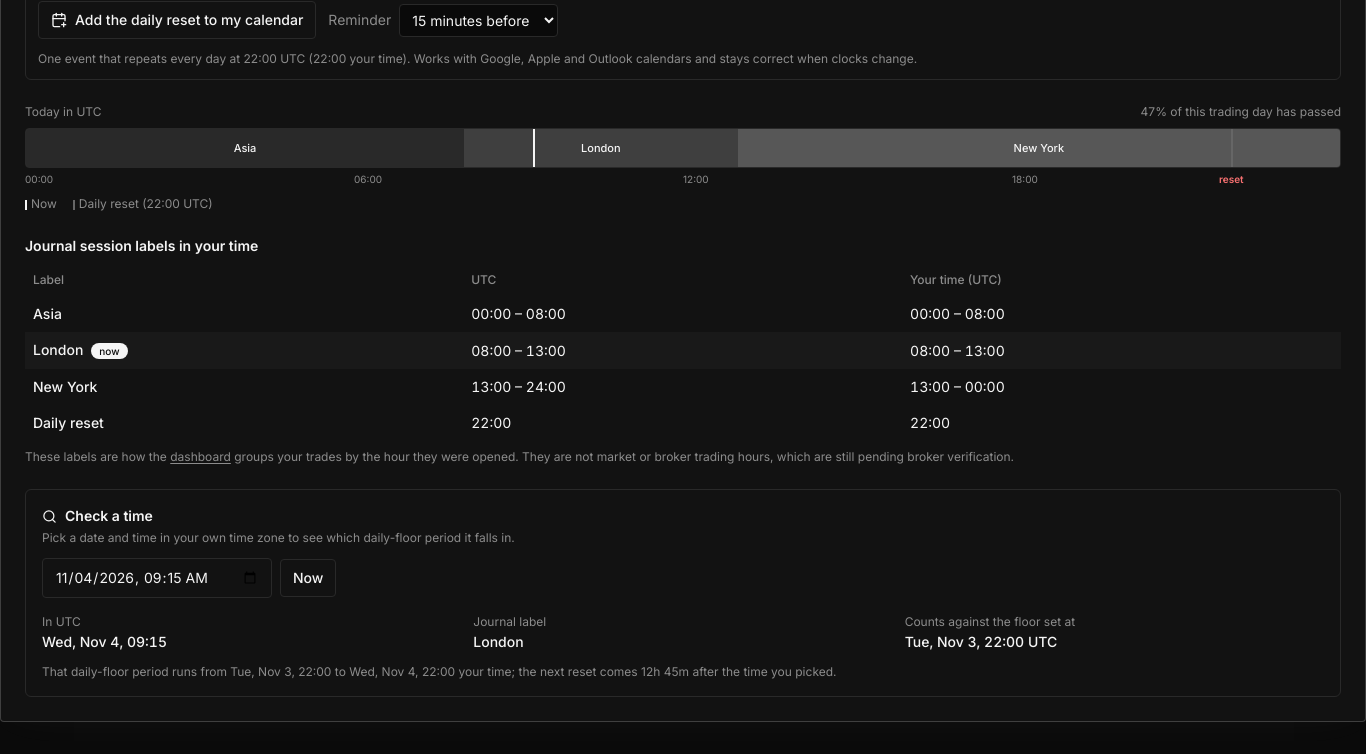
trading-day clock card › checks a chosen time against the daily-floor period
(page scrolled)
Replace the text in the field labelled "Check a time" with "2026-11-04T23:30" at x=157, y=578, box x1=42 y1=558 x2=272 y2=598
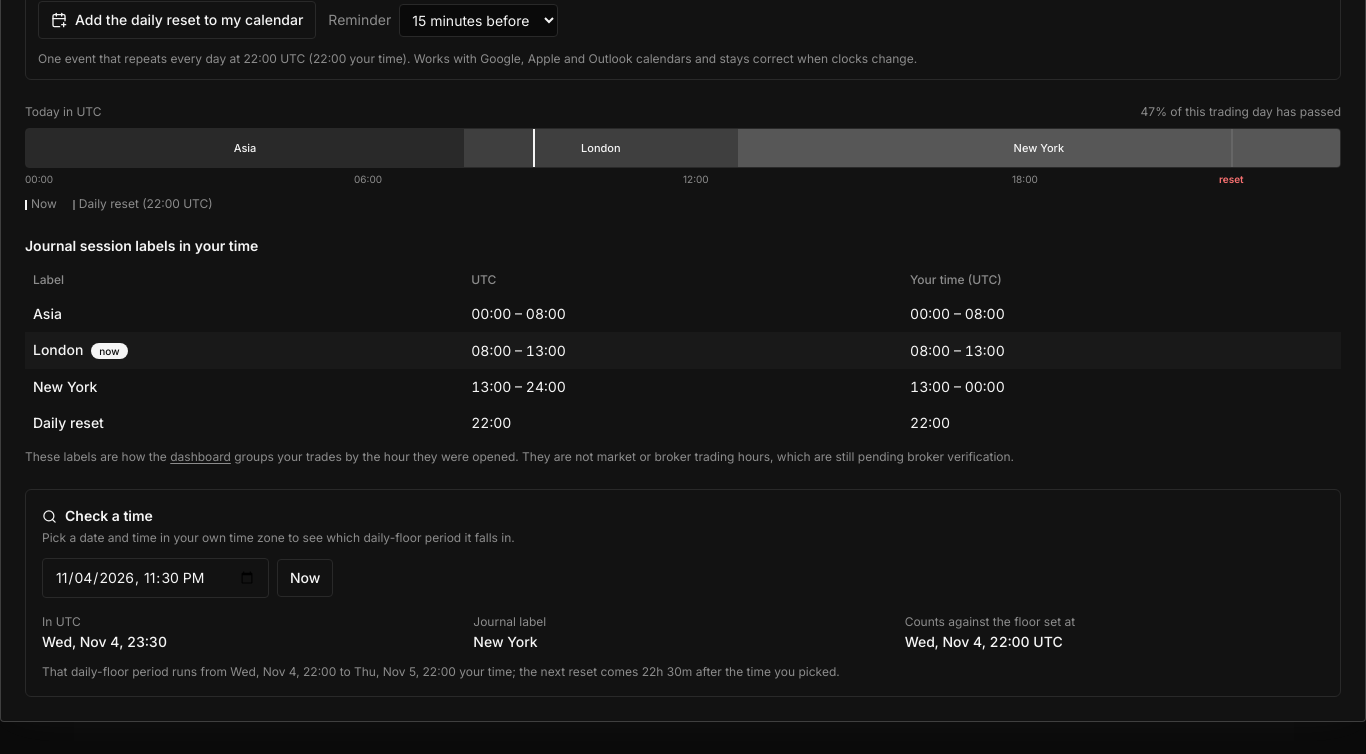
Check: the element with test id "clock-check-result" shows "22:00 UTC", box x1=42 y1=614 x2=1075 y2=679
Check: the element with test id "clock-check-result" shows "New York", box x1=473 y1=633 x2=538 y2=650
Check: the element with test id "clock-check-result" shows "22h 30m", box x1=642 y1=664 x2=692 y2=679
Clear the field labelled "Check a time" at x=156, y=578, box x1=42 y1=558 x2=269 y2=598
(page scrolled)
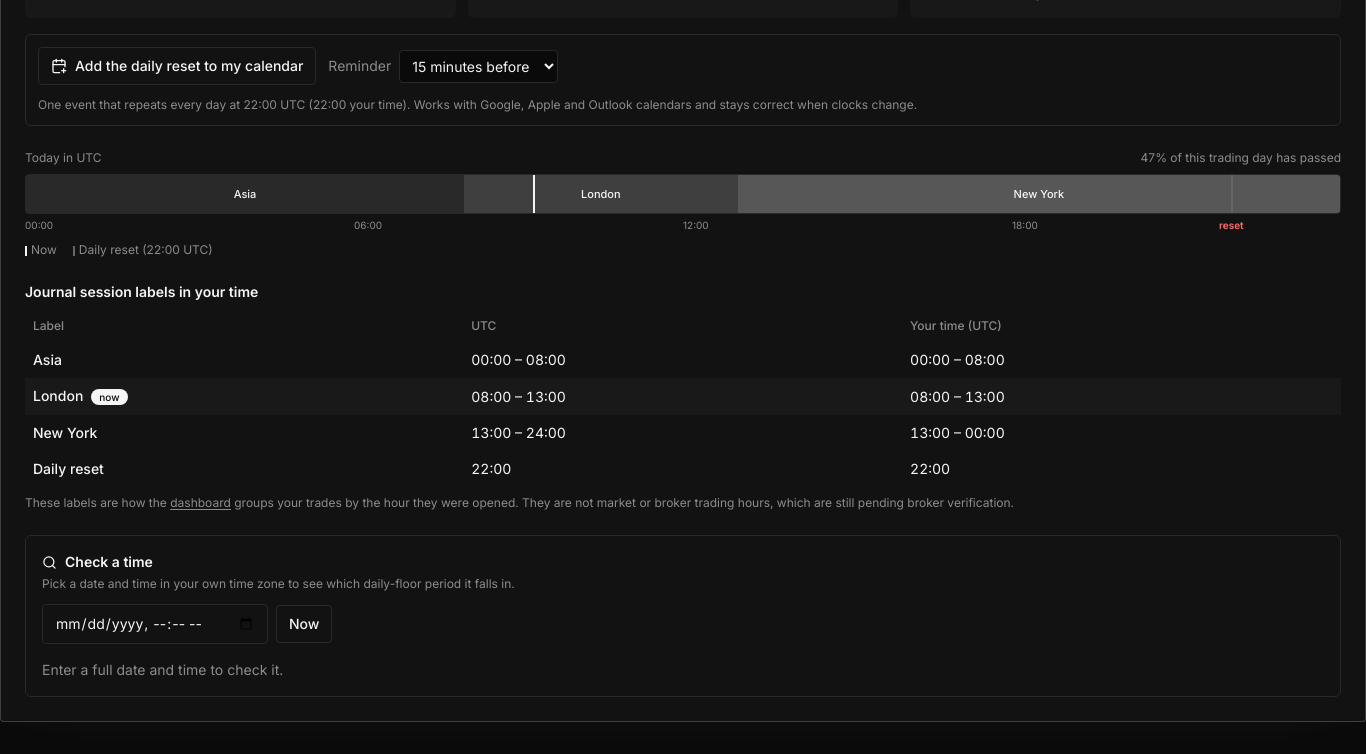
Check: the message shows "Enter a full date and time", box x1=42 y1=661 x2=283 y2=678
